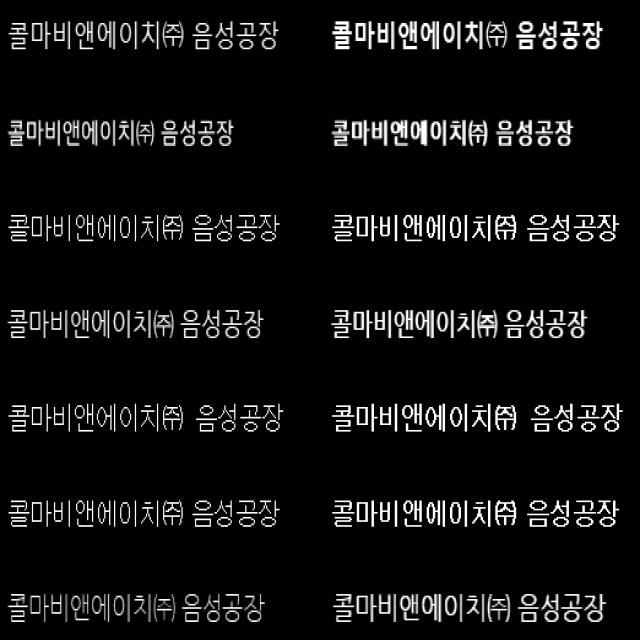bold: (327, 7, 608, 60), (330, 204, 620, 251), (331, 396, 627, 442), (325, 493, 621, 539), (327, 297, 590, 348), (328, 583, 612, 630), (330, 111, 580, 158)
normal: (8, 488, 282, 539), (8, 11, 282, 61), (8, 394, 289, 442), (5, 300, 269, 350), (5, 585, 267, 631), (8, 205, 282, 248), (8, 107, 235, 157)
